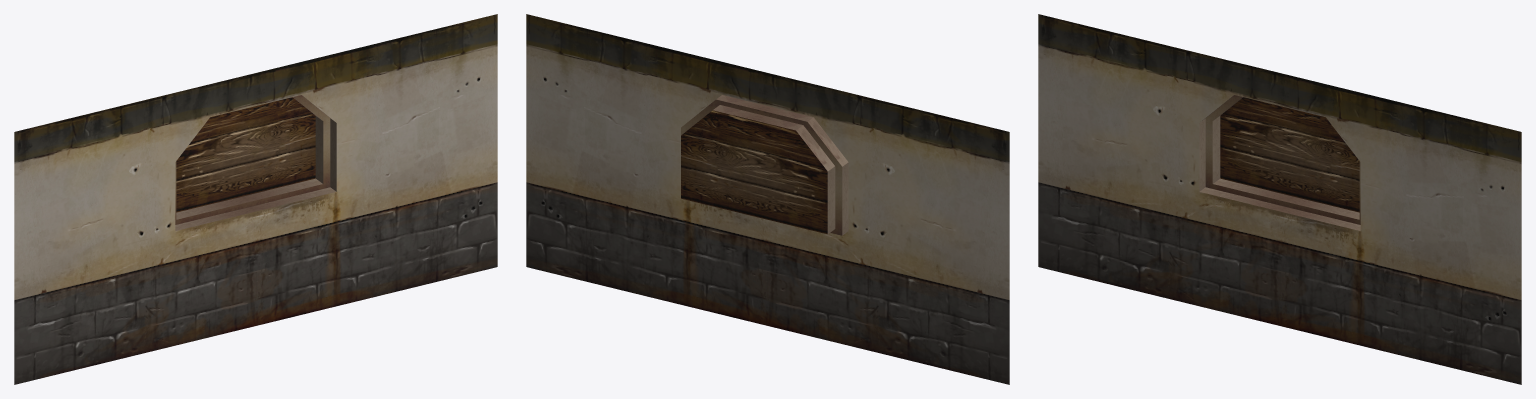
The model's file is wall_window.FBX.
The picture shows the model from 3 angles, left to right: view 1: azimuth 30°, elevation 25°; view 2: azimuth 150°, elevation 25°; view 3: azimuth 330°, elevation 25°; orthographic projection.
Parts seen in each view (by area): view 1: wall_window; view 2: wall_window; view 3: wall_window.
Part boxes in pixels (box(x1,y1,x2,y2)): wall_window: box(14, 14, 497, 384); wall_window: box(526, 14, 1009, 384); wall_window: box(1038, 14, 1521, 384).
Size of the model in its own units: 540 by 270 by 26.42.
